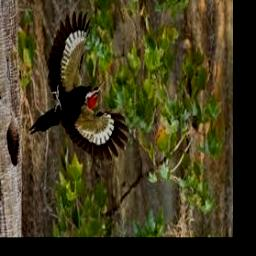Woodpecker: (29, 14, 132, 163)
